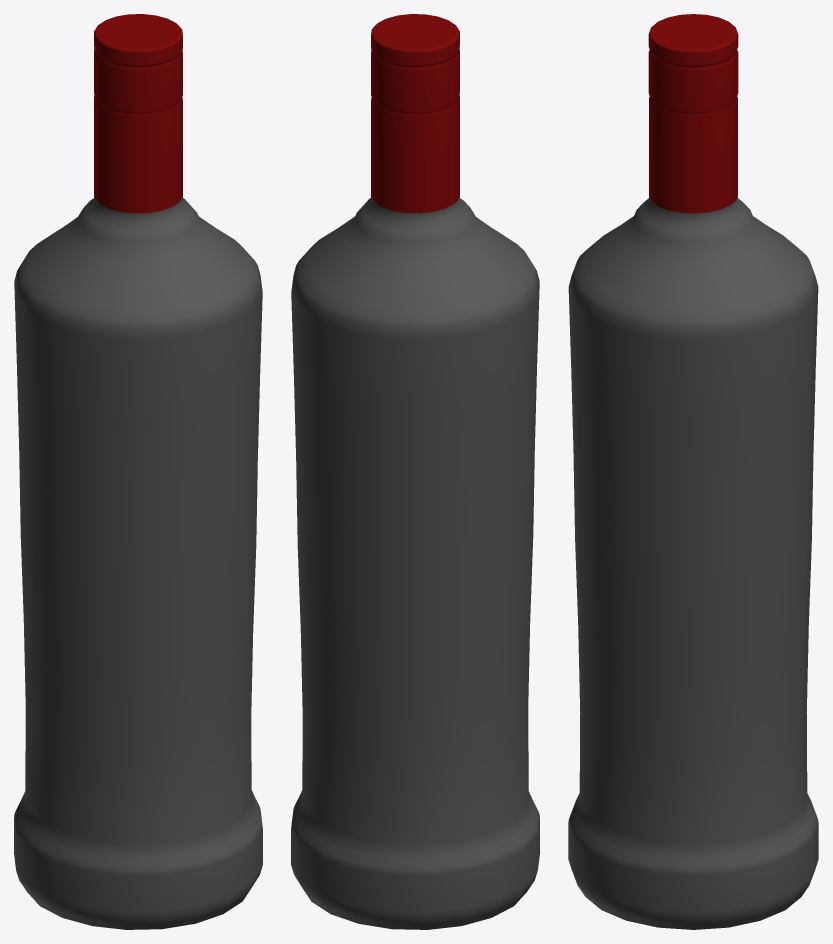
File: bottlesp.fbx
3 views of the same model, side by side, from view 1: azimuth 30°, elevation 25°; view 2: azimuth 150°, elevation 25°; view 3: azimuth 270°, elevation 25° (orthographic).
Visible parts, largest first — view 1: pCylinder1 (×2); view 2: pCylinder1 (×2); view 3: pCylinder1 (×2).
Part boxes in pixels (x1=…): pCylinder1 (×2): x1=14, y1=14, x2=262, y2=929; pCylinder1 (×2): x1=291, y1=14, x2=539, y2=929; pCylinder1 (×2): x1=568, y1=14, x2=818, y2=929.
Bounding box in the file's own units: 2 × 7.5 × 2.
